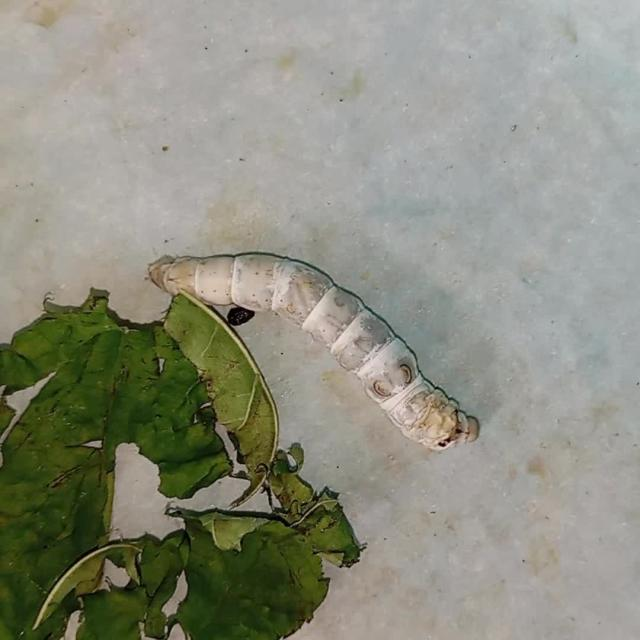Grasserie: (144, 243, 490, 456)
